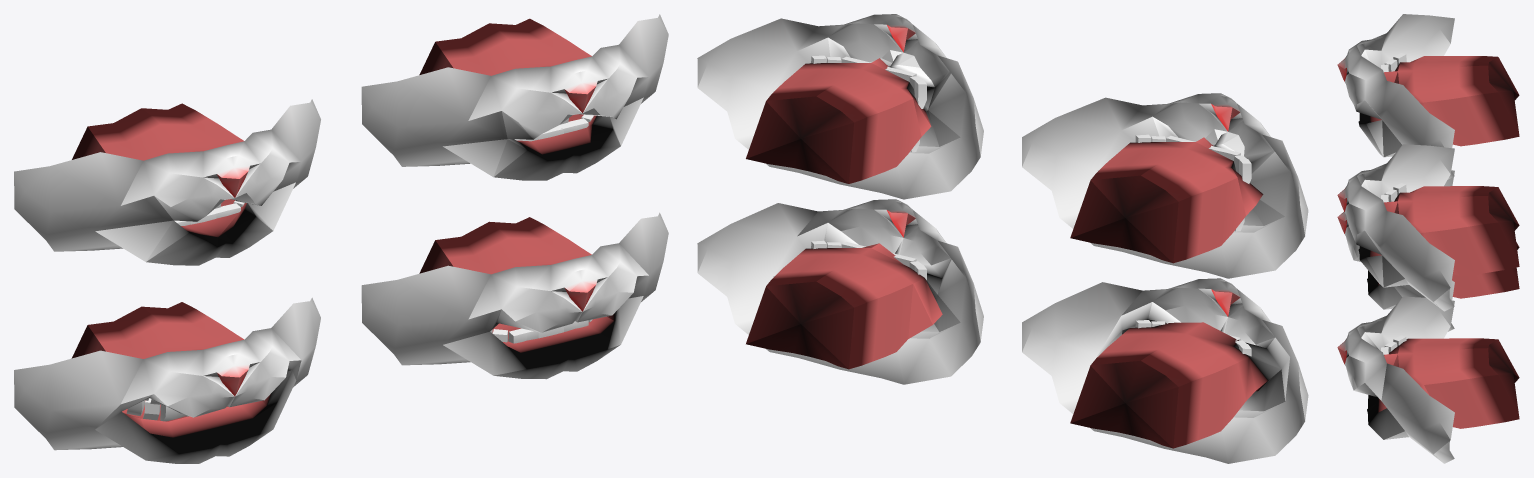
File: Clarice_C_Visemes.fbx
The picture shows the model from 3 angles, left to right: view 1: azimuth 30°, elevation 25°; view 2: azimuth 150°, elevation 25°; view 3: azimuth 270°, elevation 25°; orthographic projection. The views are drawn at different scales.
Visible parts, largest first — view 1: IvoryMesh.005, IvoryMesh.004, IvoryMesh.002, IvoryMesh.003; view 2: IvoryMesh.003, IvoryMesh.002, IvoryMesh.004, IvoryMesh.005; view 3: IvoryMesh.004, IvoryMesh.003, IvoryMesh.005, IvoryMesh.002.
Boxes of the visible parts, <box> form: IvoryMesh.005: <box>14,99,320,265</box>; IvoryMesh.004: <box>361,14,668,180</box>; IvoryMesh.002: <box>14,297,320,463</box>; IvoryMesh.003: <box>361,212,668,379</box>; IvoryMesh.003: <box>697,199,983,384</box>; IvoryMesh.002: <box>1022,278,1308,463</box>; IvoryMesh.004: <box>697,14,983,199</box>; IvoryMesh.005: <box>1022,93,1308,278</box>; IvoryMesh.004: <box>1337,144,1519,311</box>; IvoryMesh.003: <box>1337,296,1519,463</box>; IvoryMesh.005: <box>1337,14,1519,179</box>; IvoryMesh.002: <box>1337,170,1519,331</box>.
Size of the model in its own units: 206 by 102 by 65.04.
